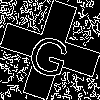G: (25, 25, 76, 80)
